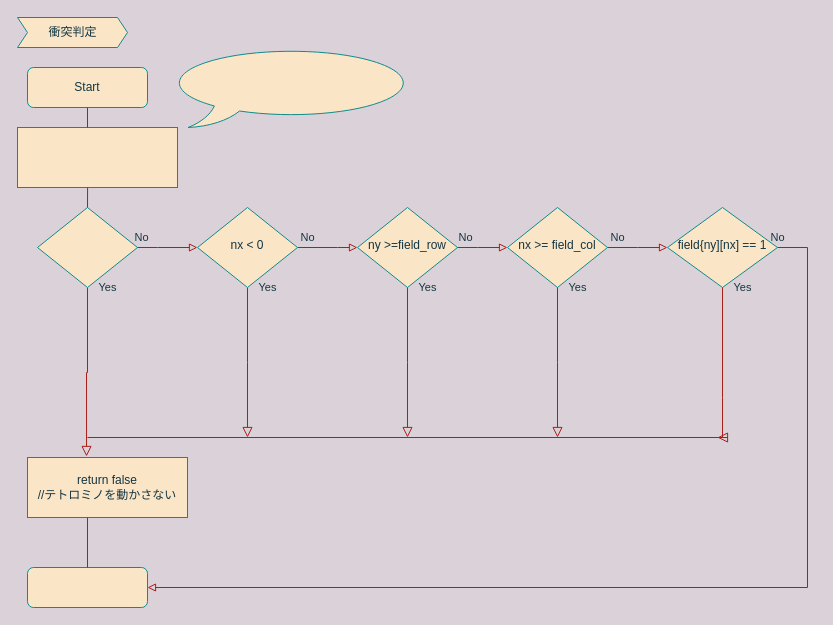
Some shapes in this 833 by 625 pixel diagram are drawn without their labels. Here are the shapes that lost their labels. From the top down, the centre of each, then its label:
the point at 97,157: let nx = tetro_x + mx + x; let ny = tetro_y + my + y;
the point at 87,247: ny < 0
the point at 87,587: End
